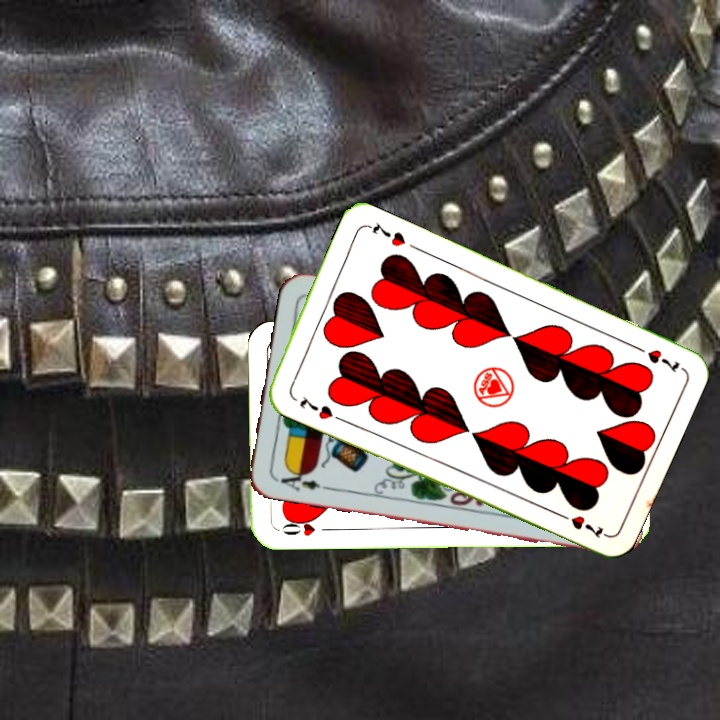EA: (271, 465, 330, 494)
H7: (629, 340, 685, 376), (295, 391, 344, 424)
HO: (278, 514, 334, 539)
